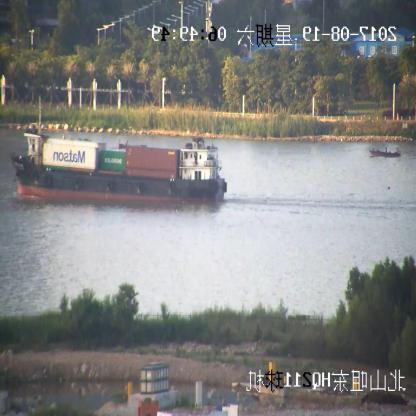Fishing Boat: (368, 143, 401, 159)
